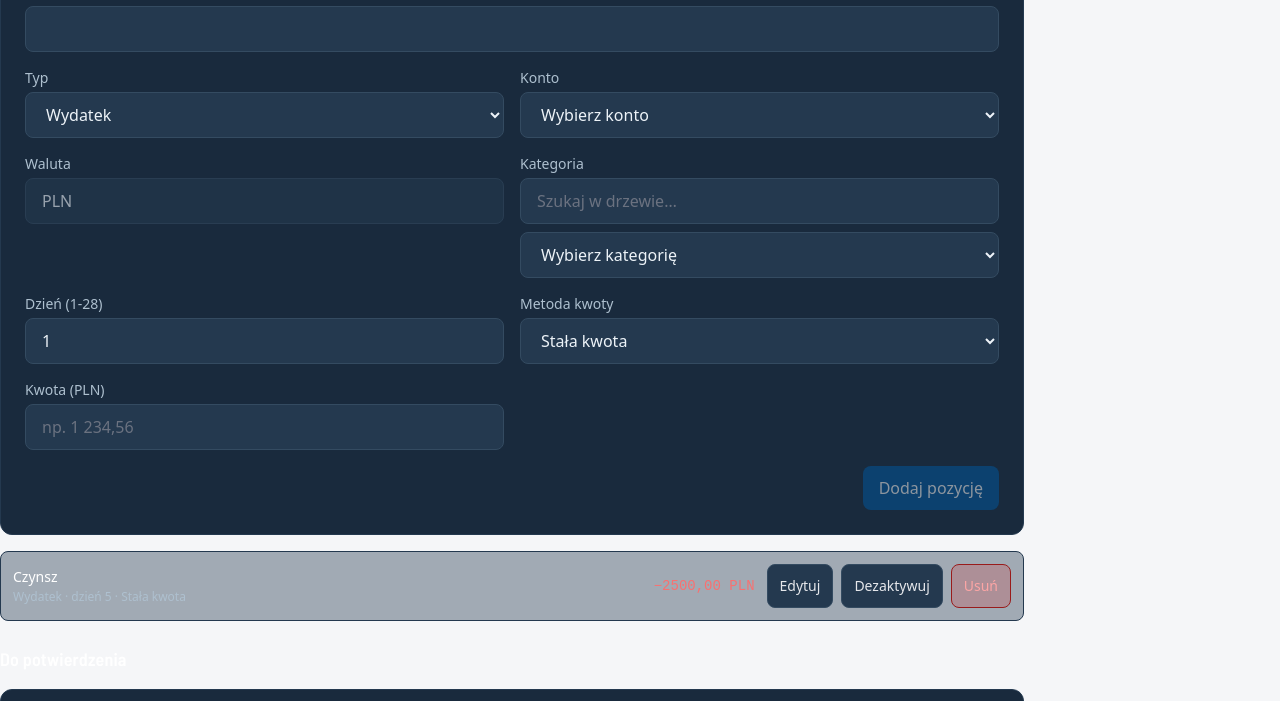
Test: FinanceCashflow › chowa pole kwoty dla metody last_actual
(page scrolled)
Expected: the field labelled "Kwota (PLN)" is shown, x1=25 y1=404 x2=504 y2=450
Select "Ostatnia rzeczywista" in the dropdown labelled "Metoda kwoty" at coordinates (760, 341), box x1=520 y1=318 x2=999 y2=364
(page scrolled)
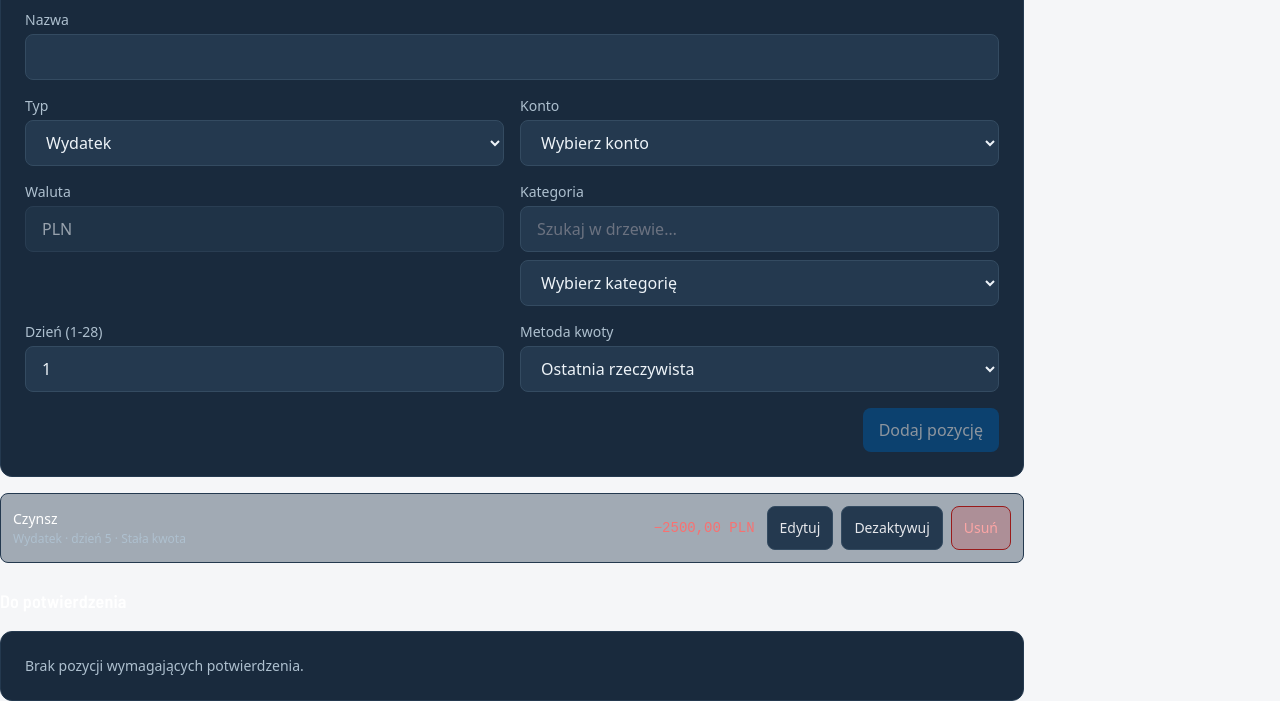
Expected: the label labelled "Kwota (PLN)" is gone
